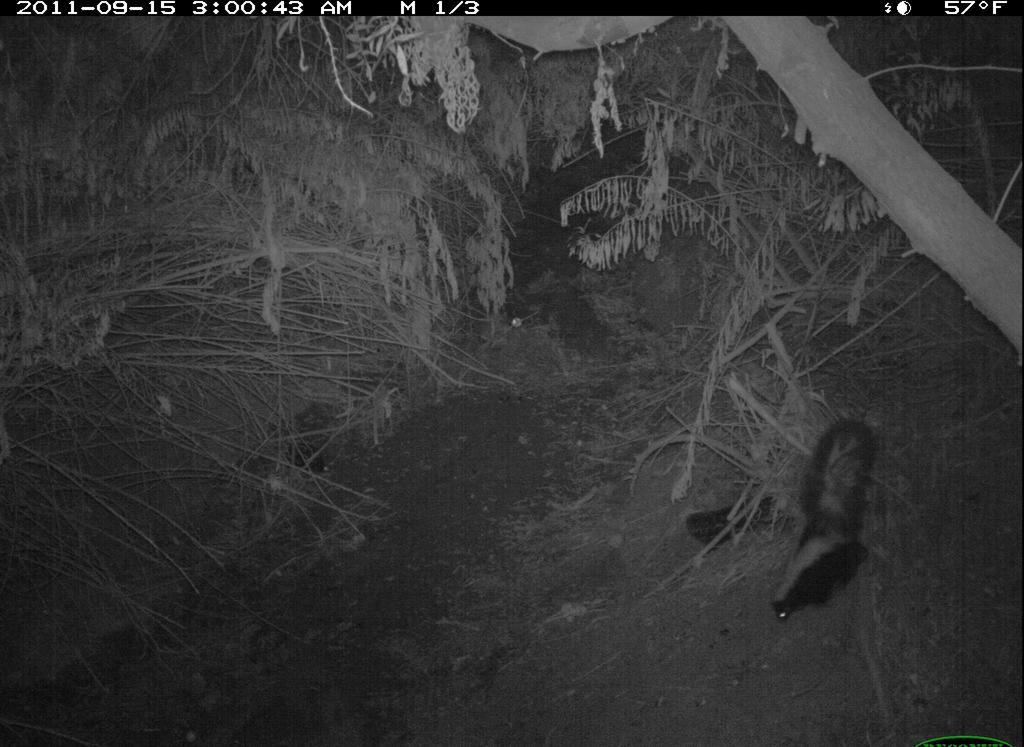skunk: (755, 405, 889, 635)
